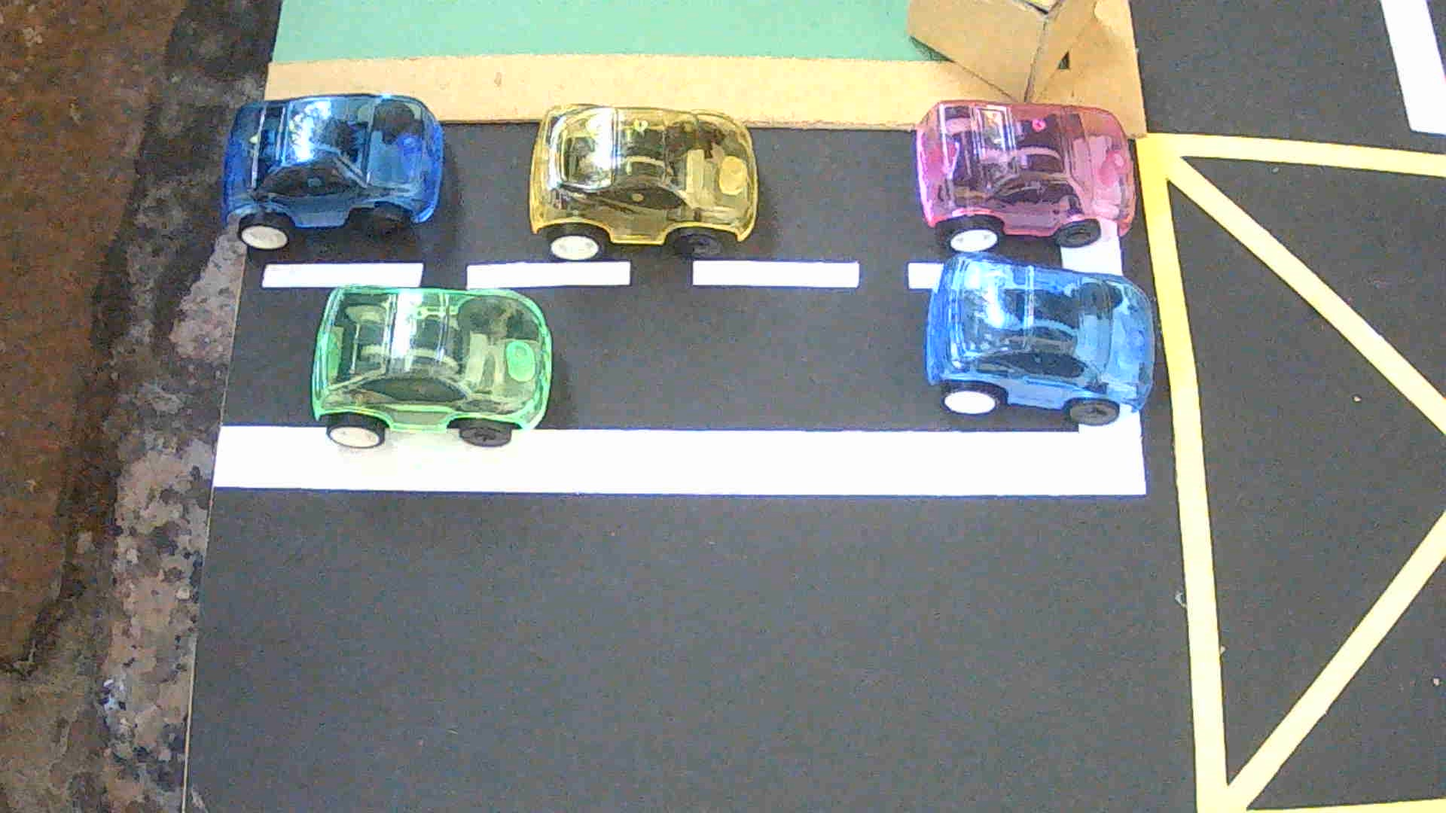Mobil biru: (924, 253, 1155, 425), (221, 93, 444, 249)
Mobil hijau: (311, 286, 551, 448)
Mobil kuning: (529, 104, 758, 260)
Mobil ungu: (915, 100, 1136, 250)
